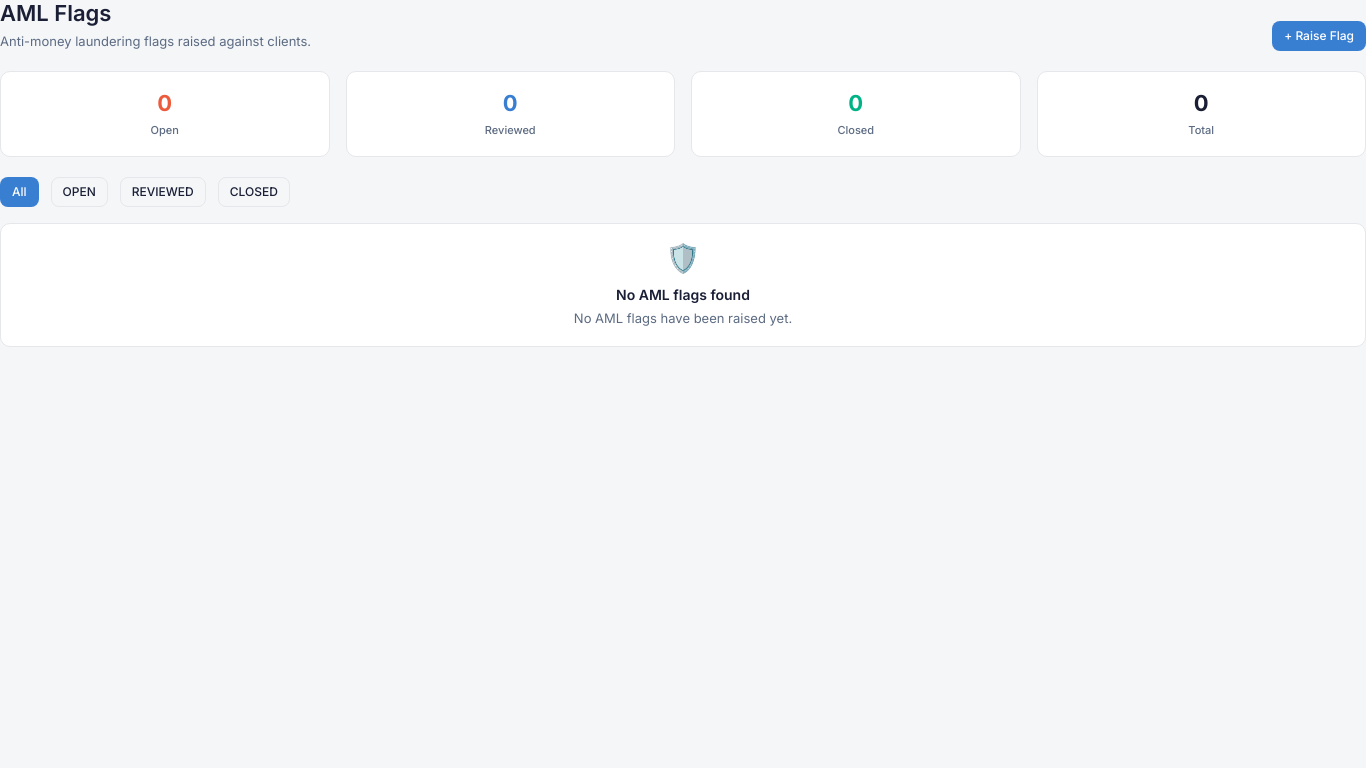
Test: AmlFlags page › opens create flag modal when Raise Flag is clicked
Click the button "+ Raise Flag": (1319, 36) x1=1272 y1=21 x2=1365 y2=51
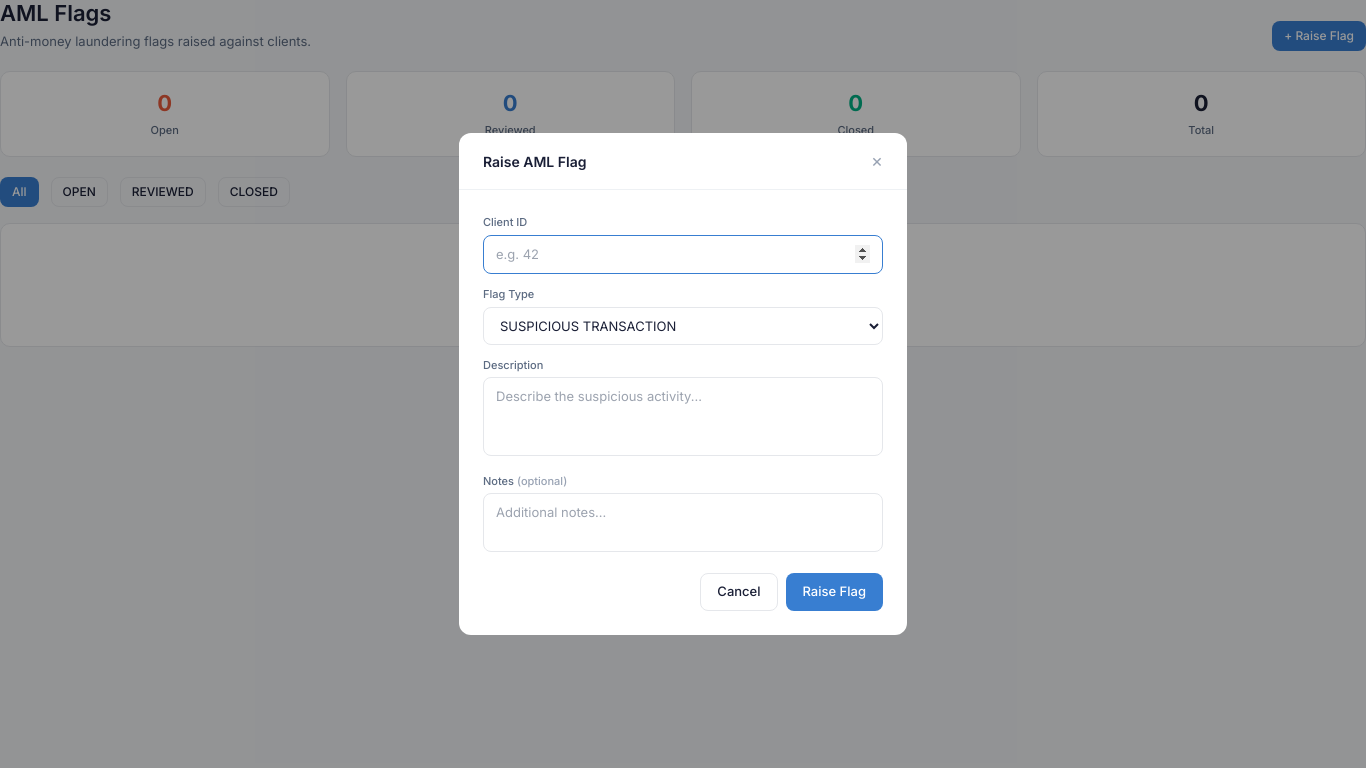
Result: the heading "Raise AML Flag" is shown at x1=483 y1=151 x2=586 y2=172
